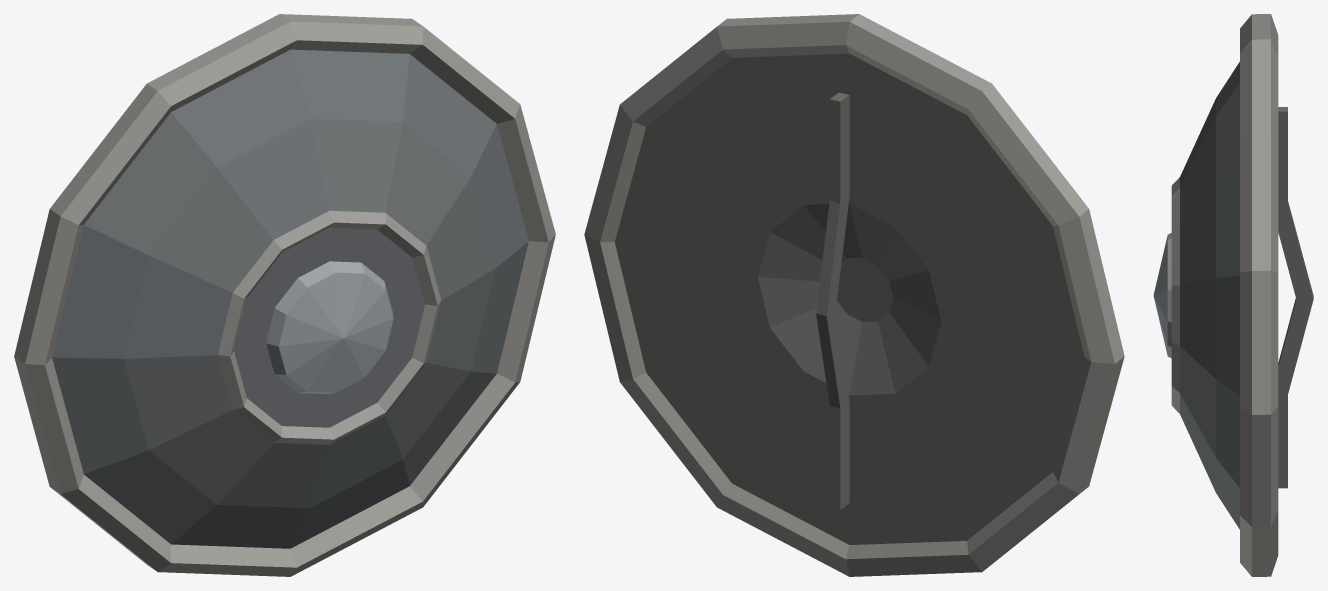
Rendered from SM_pwe_egypt_shield_02.fbx.
3 renders of one model, left to right at view 1: azimuth 30°, elevation 25°; view 2: azimuth 150°, elevation 25°; view 3: azimuth 270°, elevation 25°, orthographic. The views are drawn at different scales.
Parts seen in each view (by area): view 1: SM_pwe_egypt_shield_02; view 2: SM_pwe_egypt_shield_02; view 3: SM_pwe_egypt_shield_02.
Boxes of the visible parts, x1,y1,x2,y2 form: SM_pwe_egypt_shield_02: (14, 14, 555, 576); SM_pwe_egypt_shield_02: (584, 14, 1124, 576); SM_pwe_egypt_shield_02: (1153, 14, 1313, 576).
Size of the model in its own units: 72.08 by 72.01 by 20.39.
